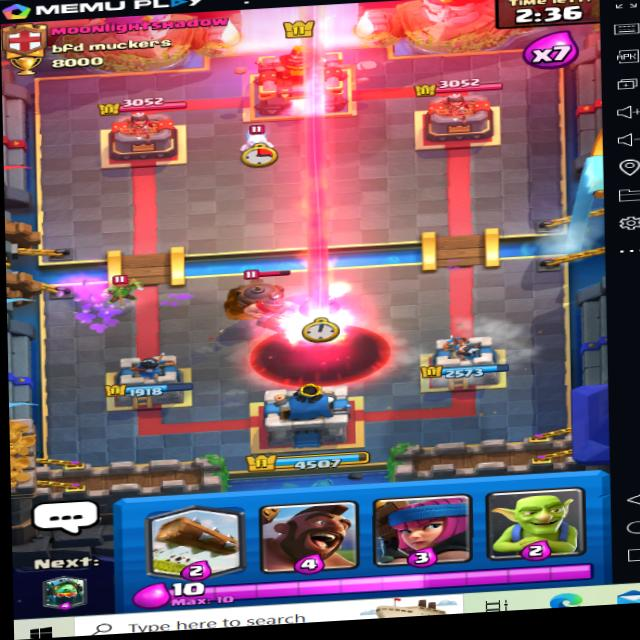ice-spirit: (238, 123, 278, 159)
mighty-miner: (220, 269, 310, 344)
spear-goblin: (99, 274, 142, 303)
void: (252, 317, 395, 391)
